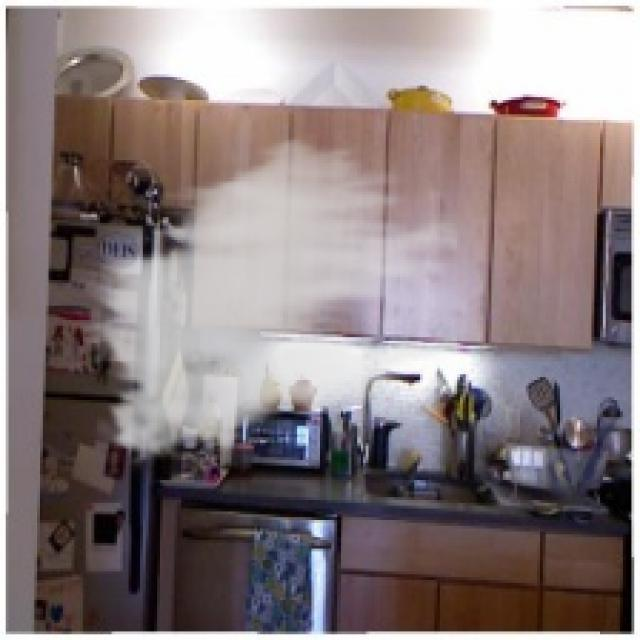Smoke: (80, 128, 460, 474)
